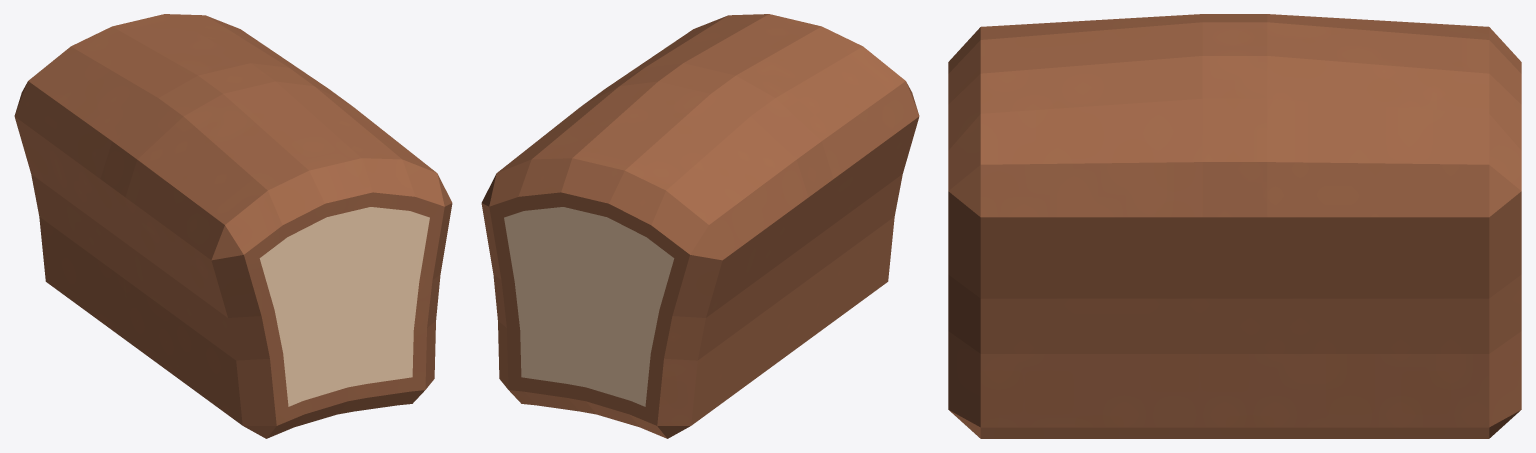
Rendered from Bread.fbx.
The picture shows the model from 3 angles, left to right: view 1: azimuth 30°, elevation 25°; view 2: azimuth 150°, elevation 25°; view 3: azimuth 270°, elevation 25°; orthographic projection. The views are drawn at different scales.
Parts seen in each view (by area): view 1: Bread; view 2: Bread; view 3: Bread.
Boxes of the visible parts, x1=… form: Bread: x1=14, y1=14, x2=452, y2=438; Bread: x1=481, y1=14, x2=919, y2=438; Bread: x1=948, y1=14, x2=1521, y2=438.
Bounding box in the file's own units: 0.2333 × 0.2518 × 0.3721.
